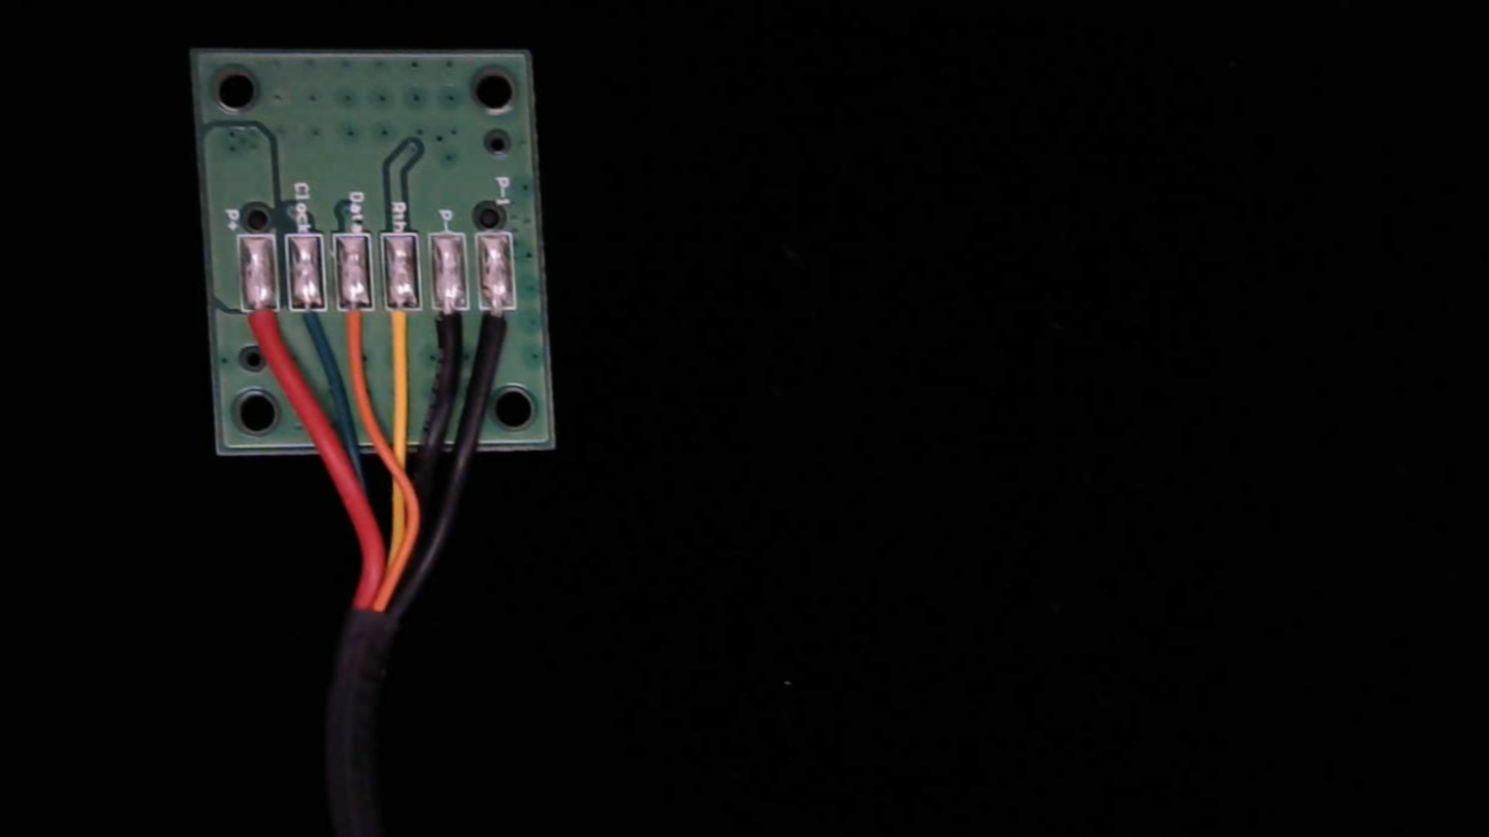Black: (431, 292, 468, 368)
Black1: (477, 293, 520, 373)
Green: (289, 291, 331, 360)
Orange: (334, 293, 376, 362)
Red: (239, 296, 280, 369)
Yellow: (382, 289, 426, 366)
